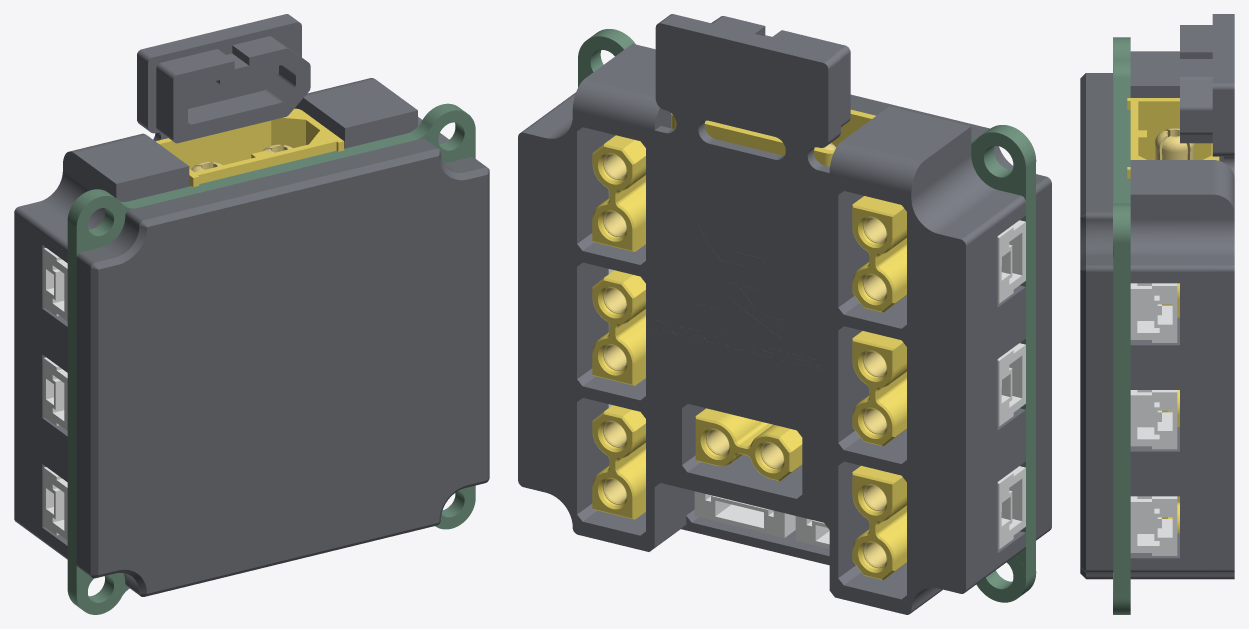
The picture shows the model from 3 angles, left to right: view 1: azimuth 30°, elevation 25°; view 2: azimuth 150°, elevation 25°; view 3: azimuth 270°, elevation 25°; orthographic projection. The views are drawn at different scales.
Visible parts, largest first — view 1: SHELL_DOWN, SHELL_UP, CENTER_DISTRIBUTION_BOARD, XT60____-8______-UL-21156-1-SOL, SM02B-GHS-TB001, SM02B-GHS-TB, SM02B-GHS-TB002; view 2: SHELL_UP, CENTER_DISTRIBUTION_BOARD, SHELL_DOWN, XT30UPB-F_SJ, XT30UPB-F_SJ003, XT30UPB-F_SJ001, XT30UPB-F_SJ004, XT30UPB-F_SJ006, XT30UPB-F_SJ005, XT30UPB-F_SJ002, BM04B-GHS-TBT, XT60____-8______-UL-21156-1-SOL (+4 smaller); view 3: SHELL_UP, SHELL_DOWN, CENTER_DISTRIBUTION_BOARD, XT60____-8______-UL-21156-1-SOL, SM02B-GHS-TB005, SM02B-GHS-TB003, SM02B-GHS-TB004, XT60____-8____-21157-1-SOLID1.
Part boxes in pixels (left/top/right/bottom): SHELL_DOWN: left=76, top=138, right=489, bottom=596; SHELL_UP: left=14, top=14, right=449, bottom=559; CENTER_DISTRIBUTION_BOARD: left=67, top=103, right=475, bottom=614; XT60____-8______-UL-21156-1-SOL: left=156, top=108, right=344, bottom=187; SM02B-GHS-TB001: left=43, top=357, right=67, bottom=430; SM02B-GHS-TB: left=43, top=248, right=67, bottom=321; SM02B-GHS-TB002: left=43, top=467, right=67, bottom=540; SHELL_UP: left=518, top=14, right=1025, bottom=614; CENTER_DISTRIBUTION_BOARD: left=578, top=29, right=1036, bottom=602; SHELL_DOWN: left=850, top=94, right=1051, bottom=540; XT30UPB-F_SJ: left=852, top=196, right=906, bottom=312; XT30UPB-F_SJ003: left=592, top=135, right=645, bottom=251; XT30UPB-F_SJ001: left=852, top=331, right=906, bottom=446; XT30UPB-F_SJ004: left=592, top=270, right=645, bottom=385; XT30UPB-F_SJ006: left=695, top=408, right=802, bottom=481; XT30UPB-F_SJ005: left=592, top=405, right=645, bottom=519; XT30UPB-F_SJ002: left=852, top=465, right=906, bottom=580; BM04B-GHS-TBT: left=694, top=491, right=795, bottom=537; XT60____-8______-UL-21156-1-SOL: left=671, top=109, right=875, bottom=166; SHELL_UP: left=1130, top=14, right=1234, bottom=579; SHELL_DOWN: left=1080, top=73, right=1113, bottom=579; CENTER_DISTRIBUTION_BOARD: left=1113, top=37, right=1130, bottom=614; XT60____-8______-UL-21156-1-SOL: left=1127, top=98, right=1219, bottom=178; SM02B-GHS-TB005: left=1130, top=283, right=1177, bottom=342; SM02B-GHS-TB003: left=1130, top=496, right=1177, bottom=555; SM02B-GHS-TB004: left=1130, top=390, right=1177, bottom=449; XT60____-8____-21157-1-SOLID1: left=1155, top=128, right=1194, bottom=159.
Bounding box in the file's own units: 0.041 × 0.0485 × 0.0141.
